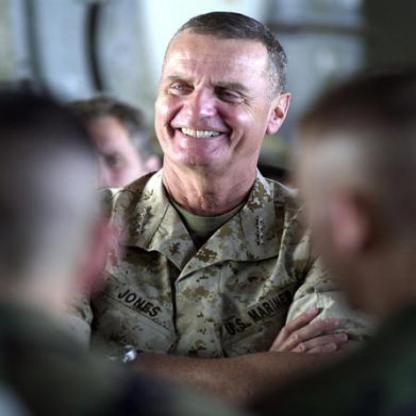face: (154, 14, 278, 171), (63, 107, 145, 223)
